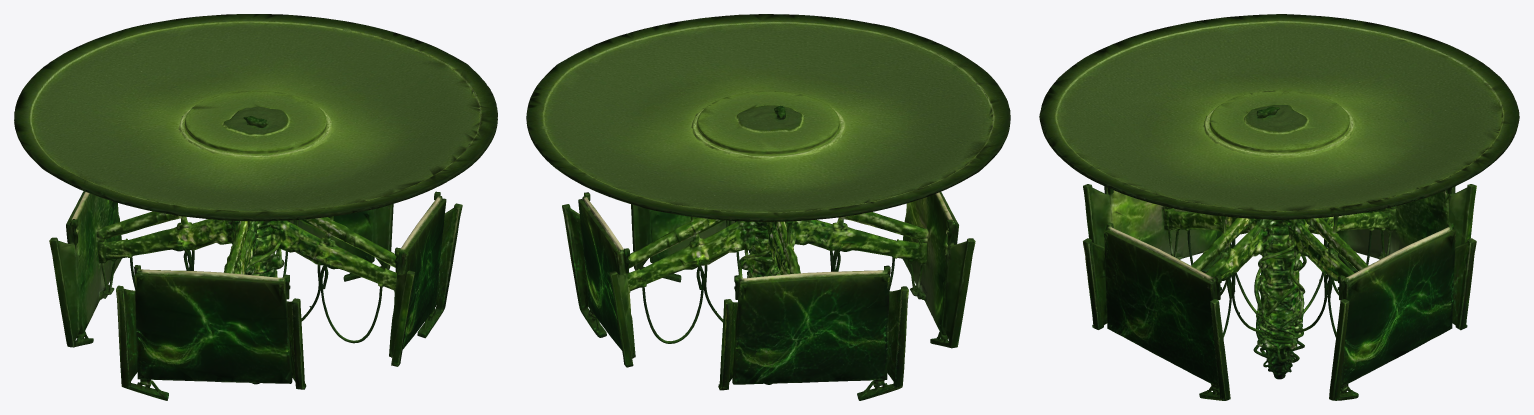
File: hero-rig.glb
3 renders of one model, left to right at view 1: azimuth 30°, elevation 25°; view 2: azimuth 150°, elevation 25°; view 3: azimuth 270°, elevation 25°, orthographic.
Parts seen in each view (by area): view 1: tripo_node_148553b5-4e46-4535-a751-ed6855b06a4a; view 2: tripo_node_148553b5-4e46-4535-a751-ed6855b06a4a; view 3: tripo_node_148553b5-4e46-4535-a751-ed6855b06a4a.
Boxes of the visible parts, left/top/right/bottom form: tripo_node_148553b5-4e46-4535-a751-ed6855b06a4a: left=14, top=14, right=497, bottom=400; tripo_node_148553b5-4e46-4535-a751-ed6855b06a4a: left=526, top=14, right=1010, bottom=400; tripo_node_148553b5-4e46-4535-a751-ed6855b06a4a: left=1039, top=14, right=1519, bottom=400.
Bounding box in the file's own units: 0.9796 × 0.6021 × 0.9788.
Materials: 1 (1 with a texture image).
